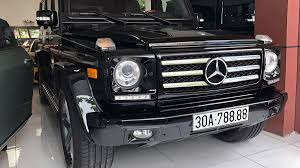Bien-so: (194, 105, 250, 133)
